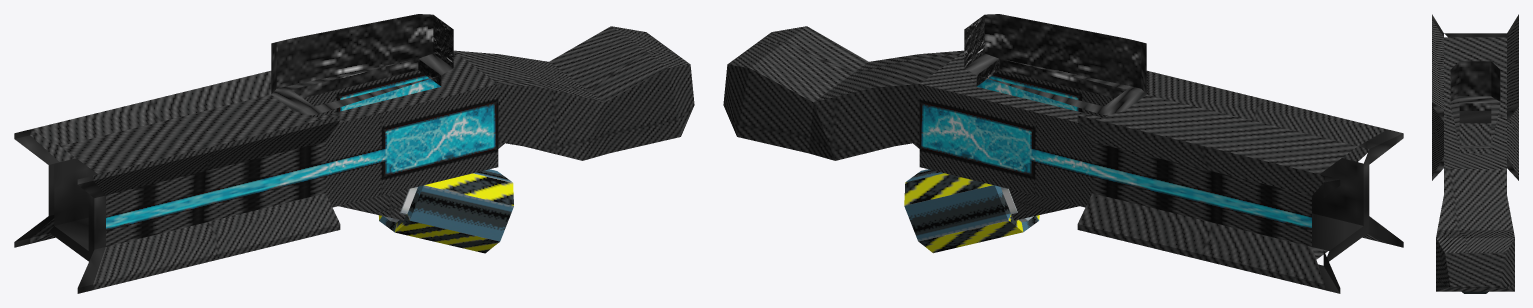
Rendered from gun.fbx.
3 renders of one model, left to right at view 1: azimuth 30°, elevation 25°; view 2: azimuth 150°, elevation 25°; view 3: azimuth 270°, elevation 25°, orthographic. The views are drawn at different scales.
Visible parts, largest first — view 1: Cube.560, Cube.565; view 2: Cube.560, Cube.565; view 3: Cube.560, Cube.565.
Boxes of the visible parts, bbox=[...] form: Cube.560: bbox=[14, 14, 694, 293]; Cube.565: bbox=[378, 169, 513, 253]; Cube.560: bbox=[723, 14, 1403, 293]; Cube.565: bbox=[904, 169, 1039, 253]; Cube.560: bbox=[1432, 14, 1518, 291]; Cube.565: bbox=[1462, 291, 1488, 293].
Bounding box in the file's own units: 1588 × 585 × 276.
